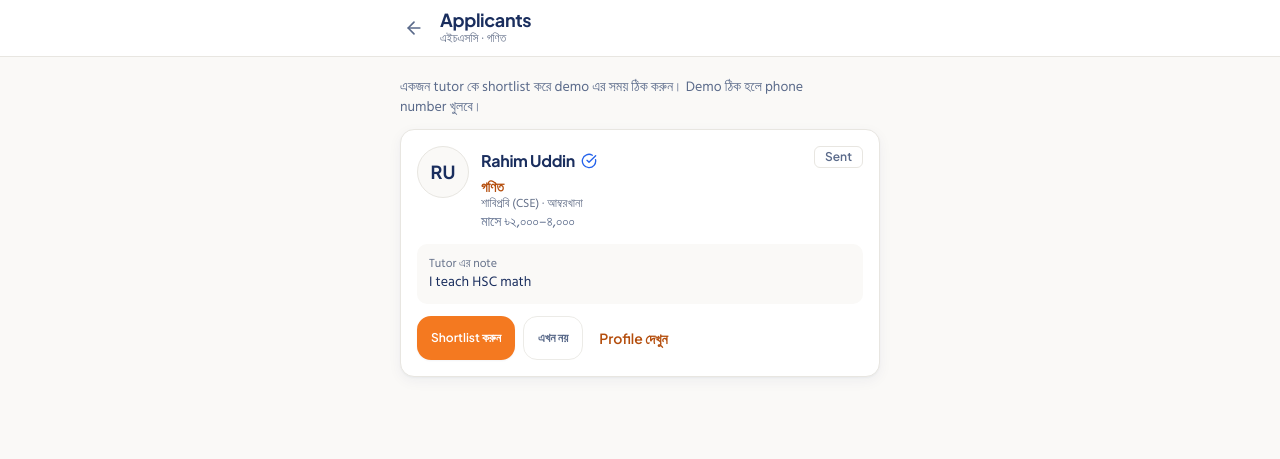
it: Applicants page › rejects an applicant
This screenshot has width=1280, height=459.
What coordinates should you click on to do the following:
click the button "এখন নয়"
I would click on:
 (553, 338)
Its box is [523,316,583,360].
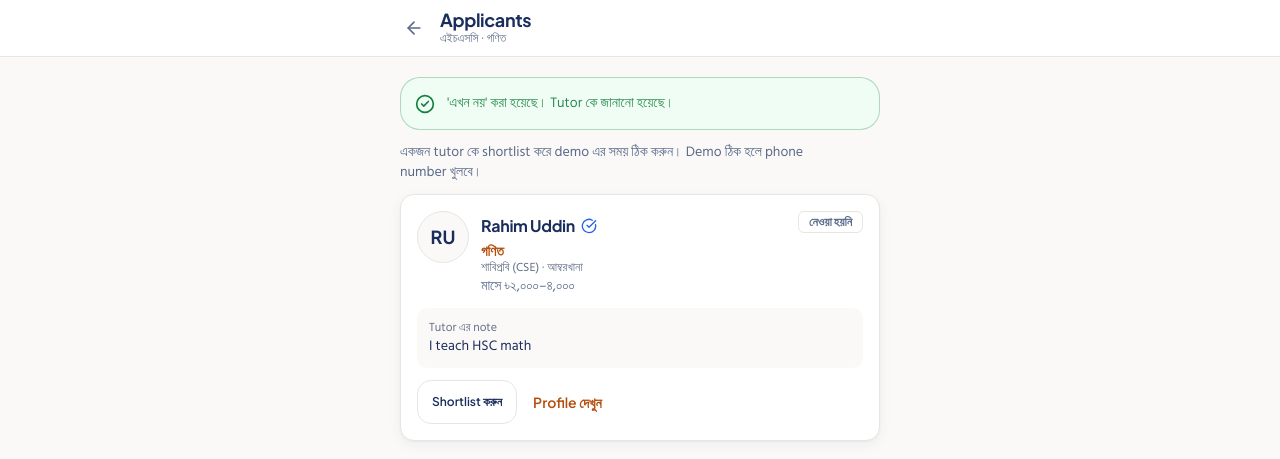
Now the text "'এখন নয়' করা হয়েছে। Tutor কে জানানো হয়েছে।" is shown, box [447,91,674,114]
